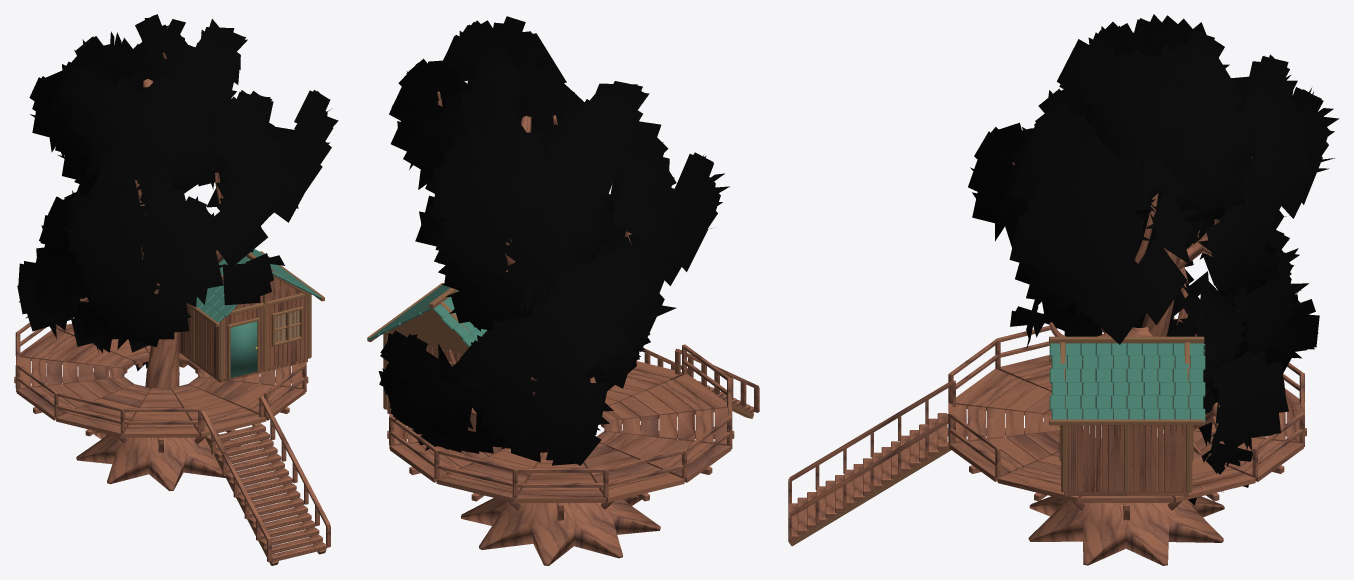
The model's file is fantasy_forest_edit.glb.
The picture shows the model from 3 angles, left to right: view 1: azimuth 30°, elevation 25°; view 2: azimuth 150°, elevation 25°; view 3: azimuth 270°, elevation 25°; orthographic projection. The views are drawn at different scales.
Parts seen in each view (by area): view 1: Forest_House, Door; view 2: Forest_House; view 3: Forest_House.
Boxes of the visible parts, <box> form: Forest_House: <box>14,14,338,565</box>; Door: <box>230,321,257,377</box>; Forest_House: <box>367,16,759,565</box>; Forest_House: <box>788,14,1338,565</box>.
Size of what is drawn, in the model's own units: 13.01 by 18.2 by 17.73.
Materials: 7 (4 with a texture image).
